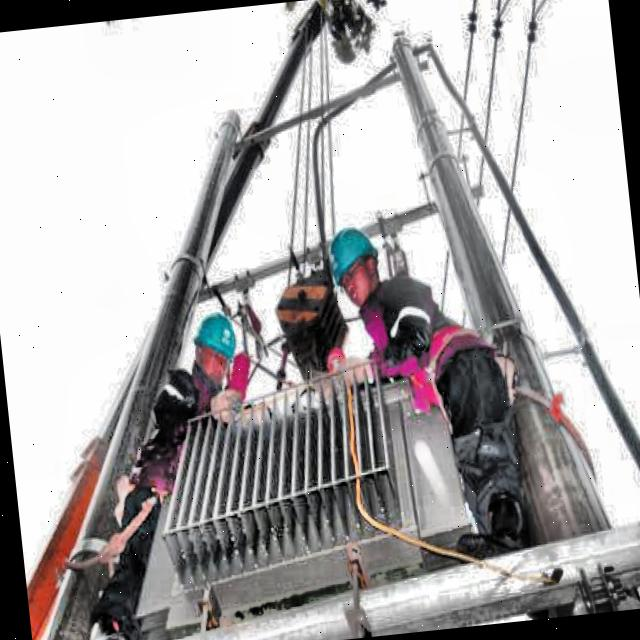helmet: (319, 213, 392, 318), (180, 294, 247, 406)
